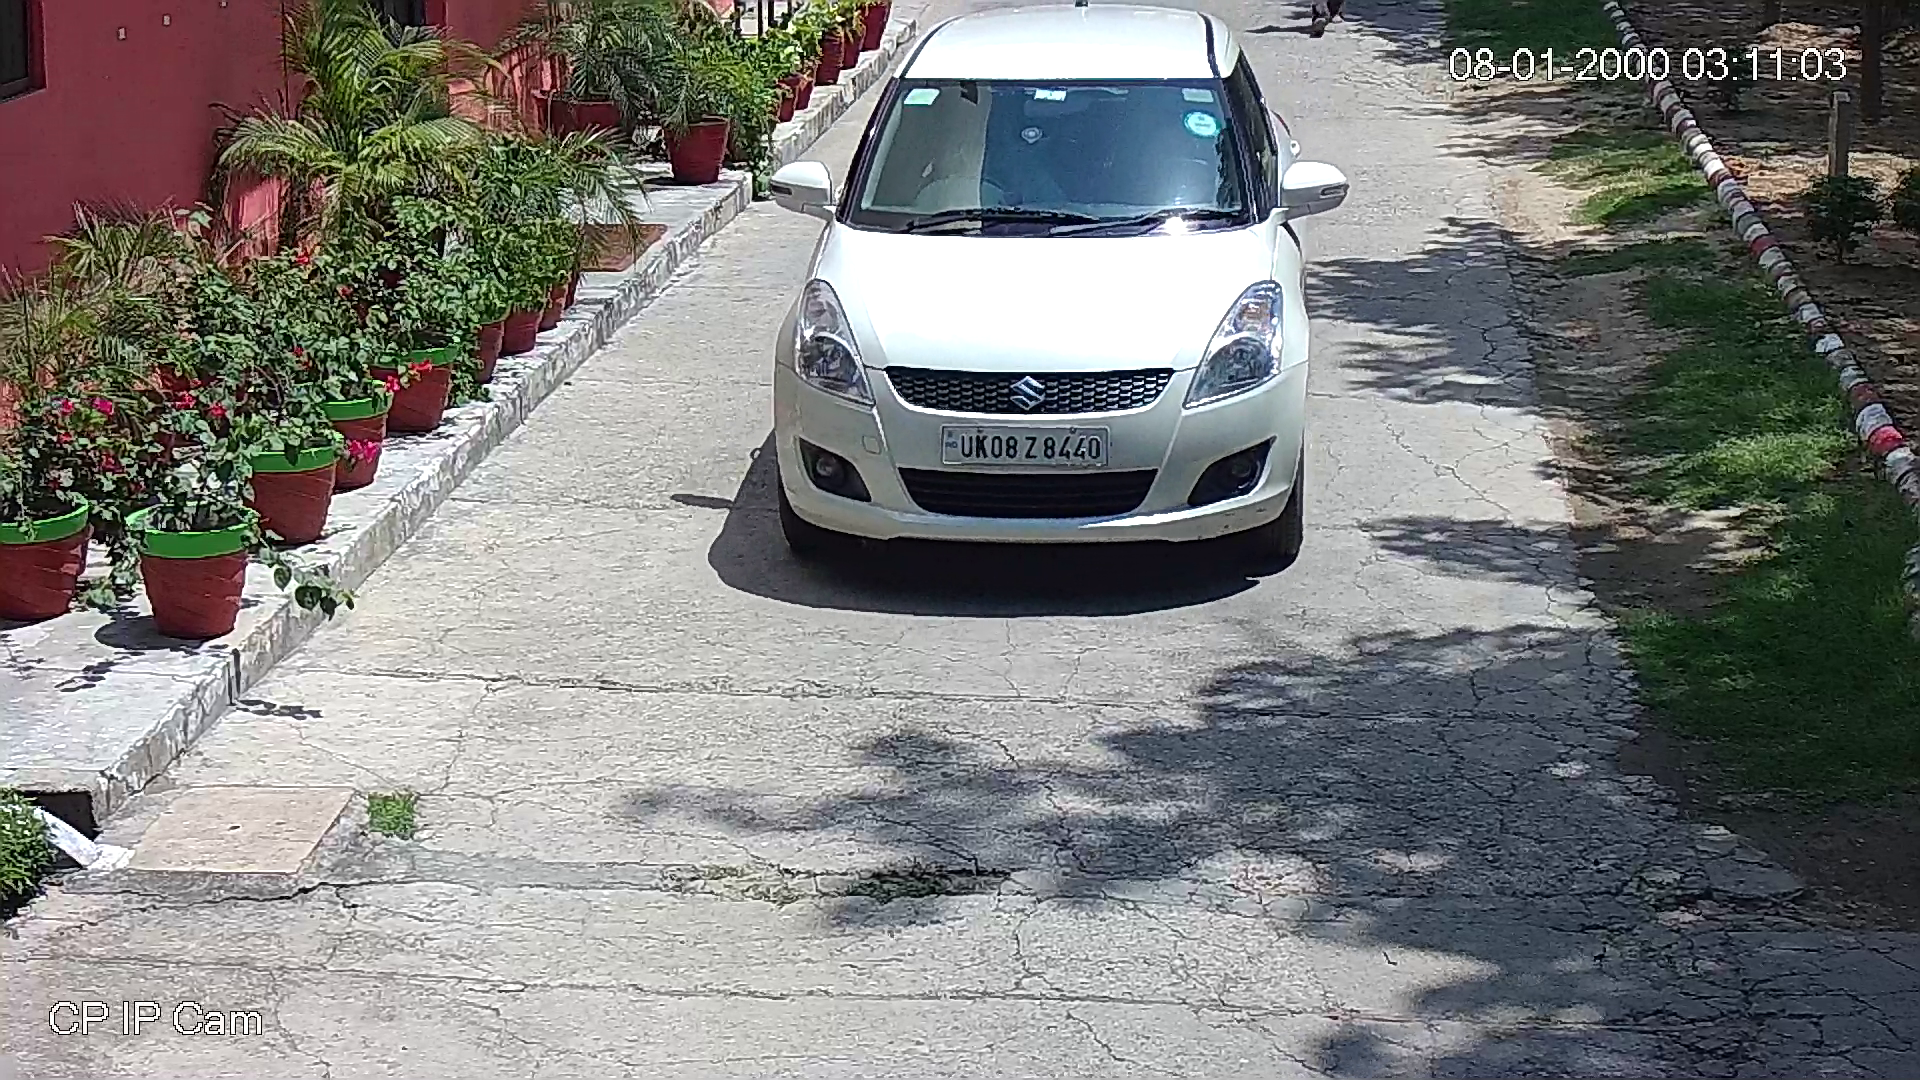plate: (934, 415, 1116, 472), (768, 517, 770, 519)
